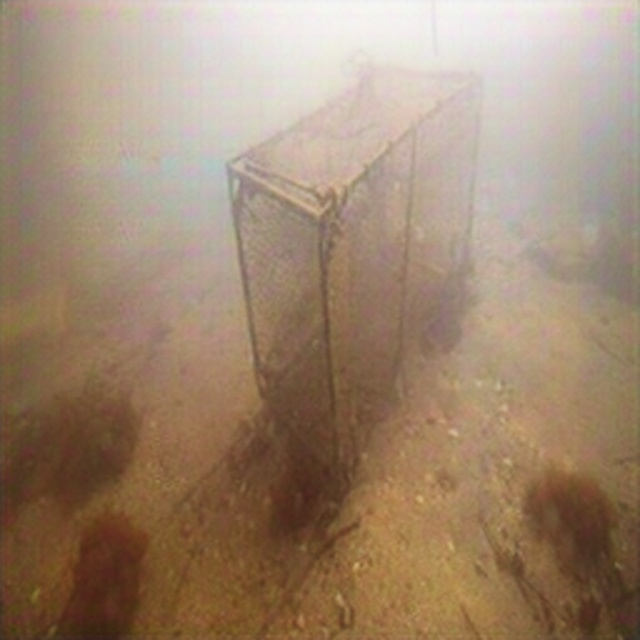mine: (223, 57, 487, 501)
